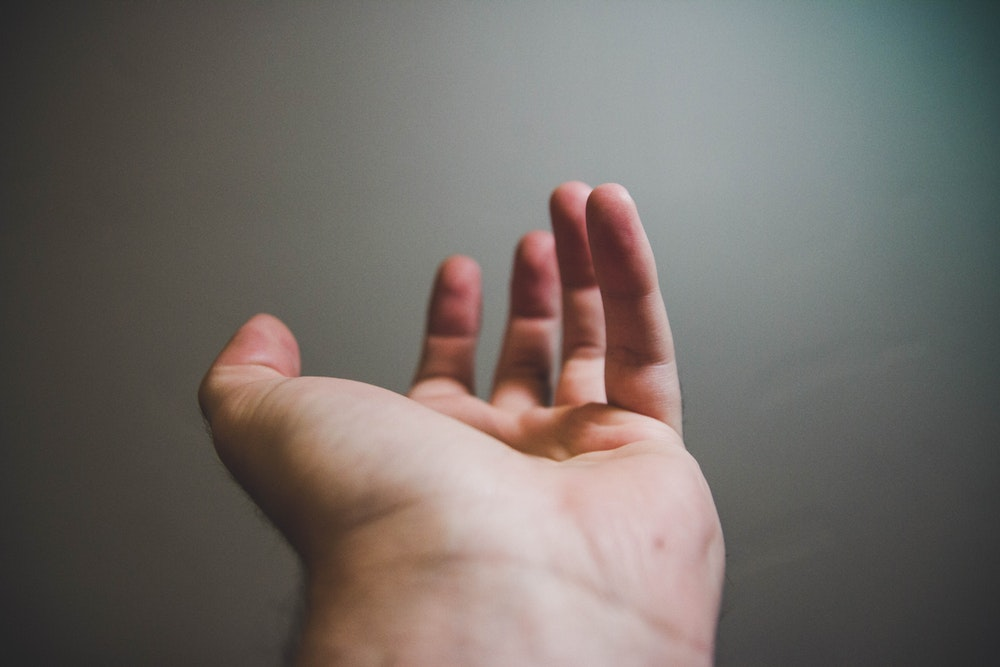palm: (375, 370, 696, 571)
